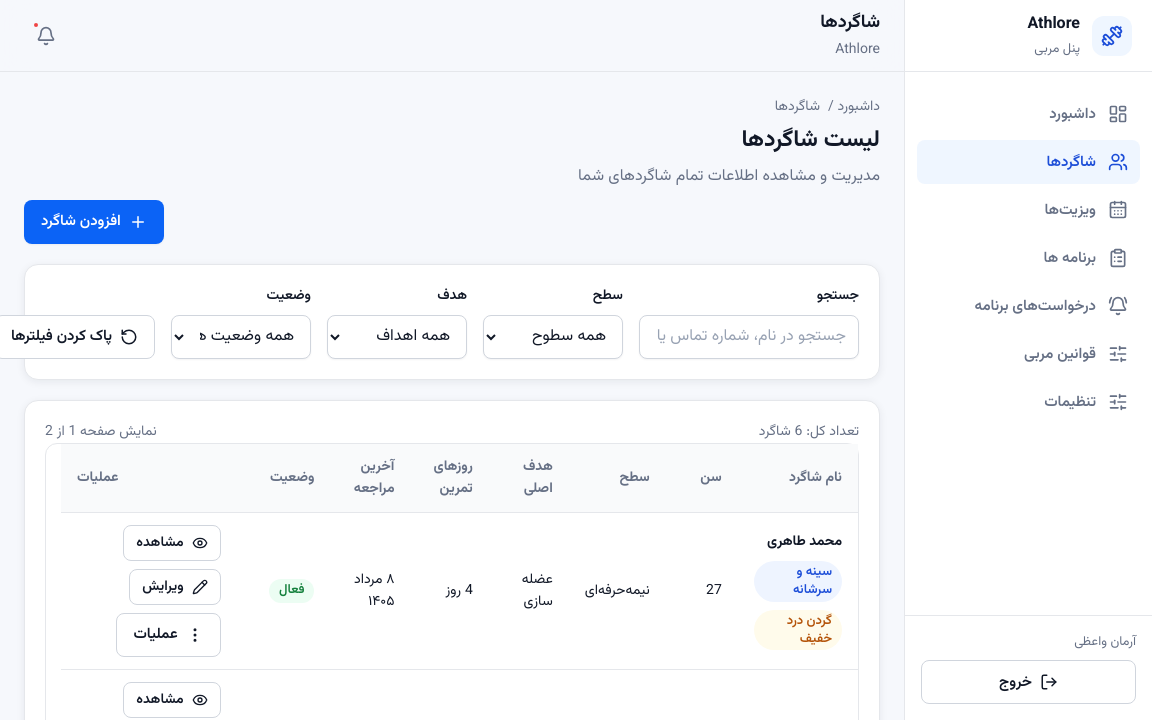
Scenario: StudentsListPage › filters students by status
Select "غیرفعال" in the dropdown labelled "وضعیت" at (241,337), box [171,315,311,359]
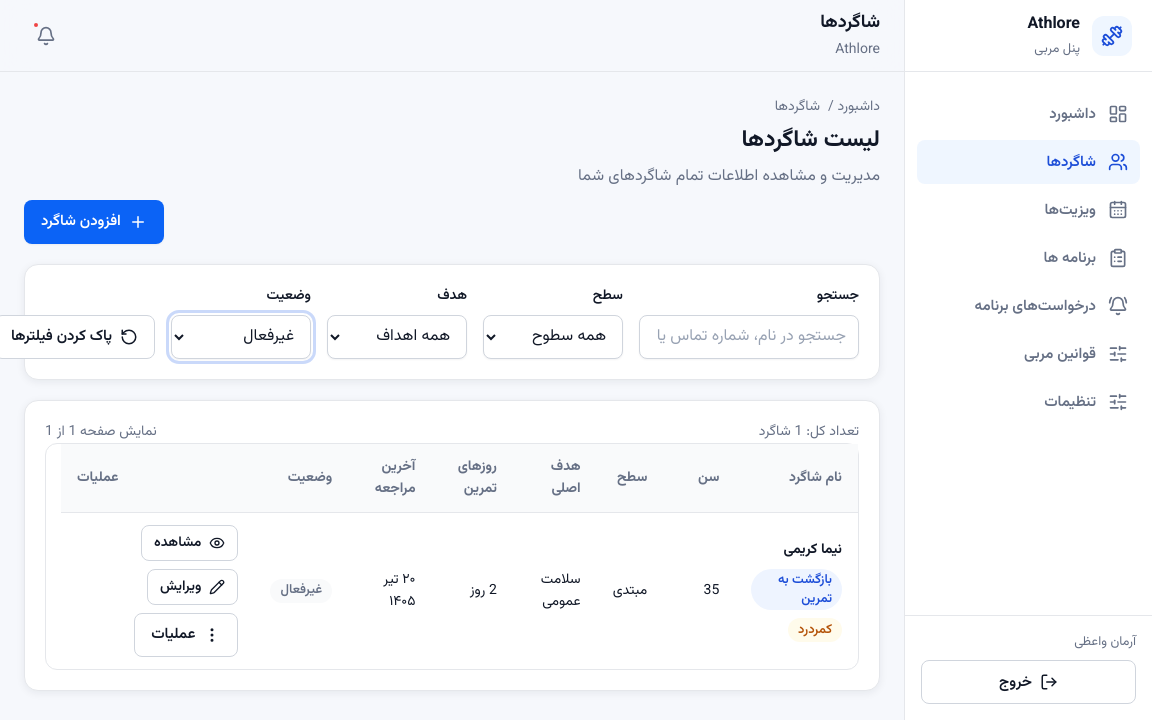
Expected: the text "محمد طاهری" is gone
